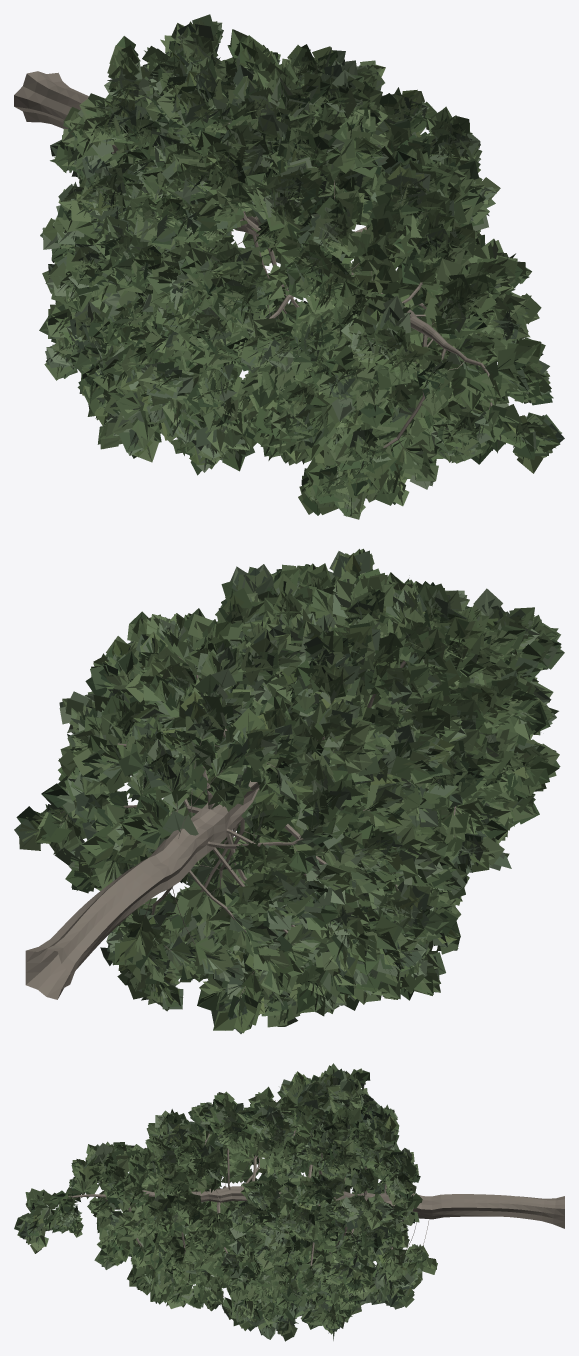
File: tree_near_15.obj
The picture shows the model from 3 angles, top to bottom: view 1: azimuth 30°, elevation 25°; view 2: azimuth 150°, elevation 25°; view 3: azimuth 270°, elevation 25°; orthographic projection. The views are drawn at different scales.
Visible parts, largest first — view 1: tree_near_15; view 2: tree_near_15; view 3: tree_near_15.
Boxes of the visible parts, x1=… form: tree_near_15: x1=14, y1=14, x2=564, y2=519; tree_near_15: x1=14, y1=548, x2=564, y2=1033; tree_near_15: x1=14, y1=1063, x2=564, y2=1341.
Bounding box in the file's own units: 0.4859 × 0.4982 × 0.9949.
1 material, 1 textured.
